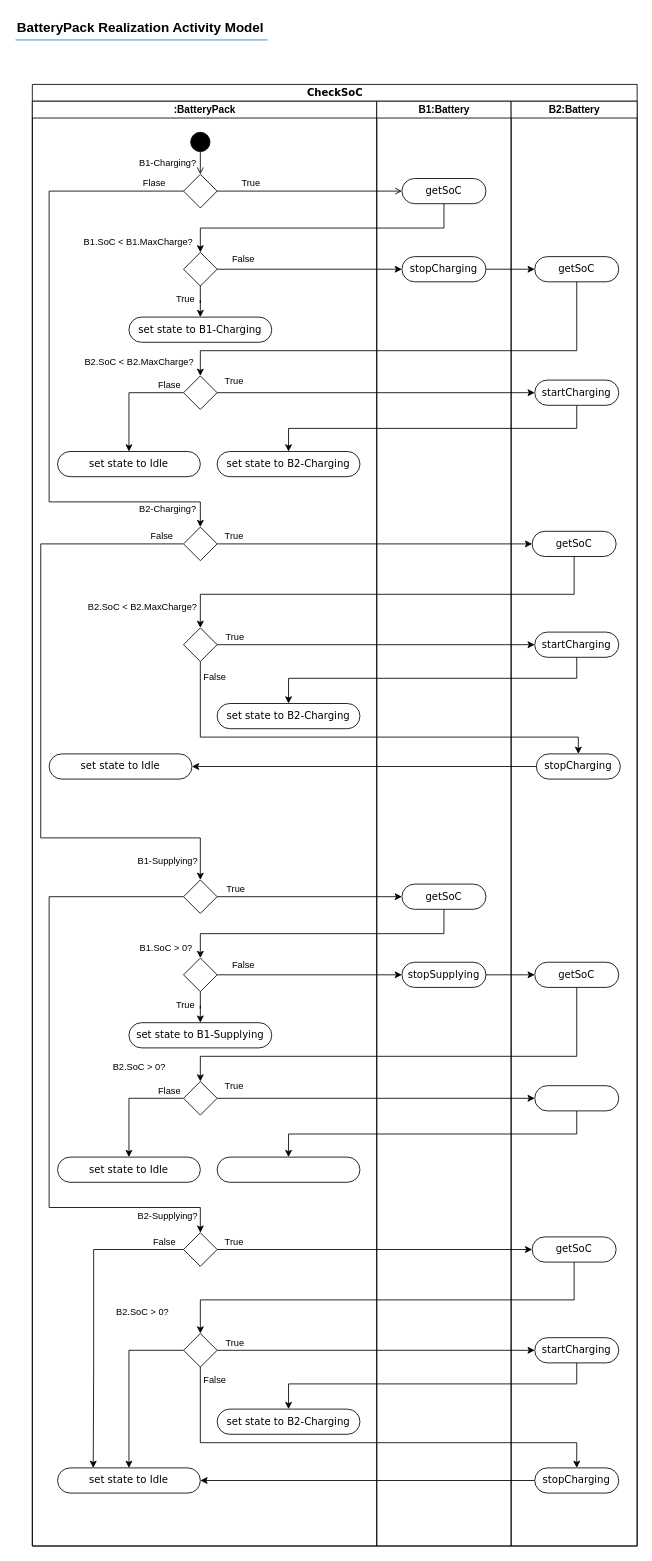
Image size: 652x1561. Some labels were removed from this diagram. Here are the shapes that lost their labels. From the top down, the centre of each, then its label:
the point at 576,1098: startSupplying
the point at 288,1169: set state to B2-Supplying
